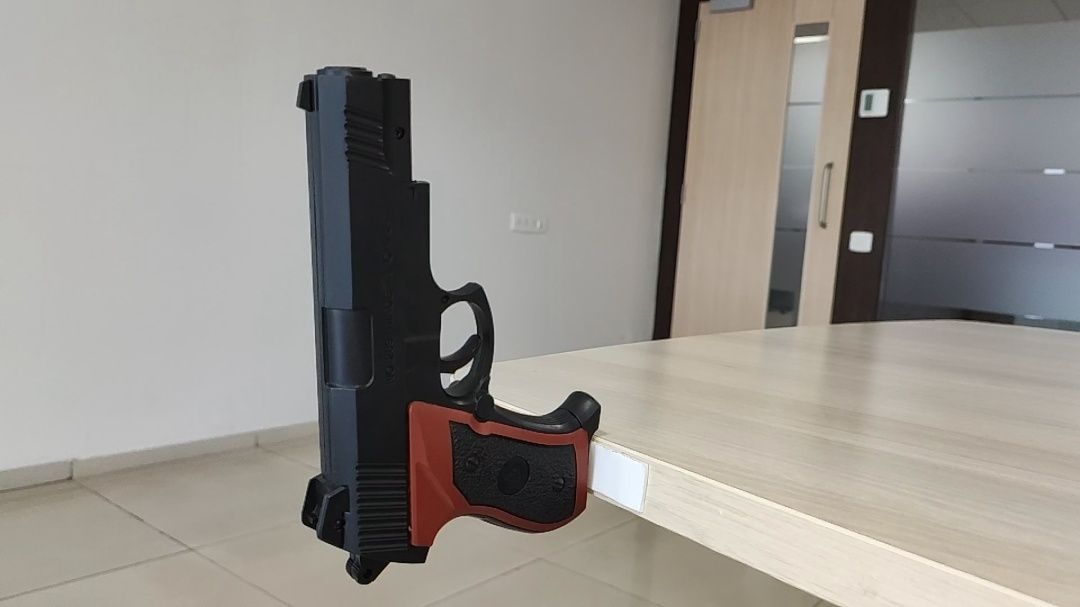gun: (279, 59, 596, 584)
